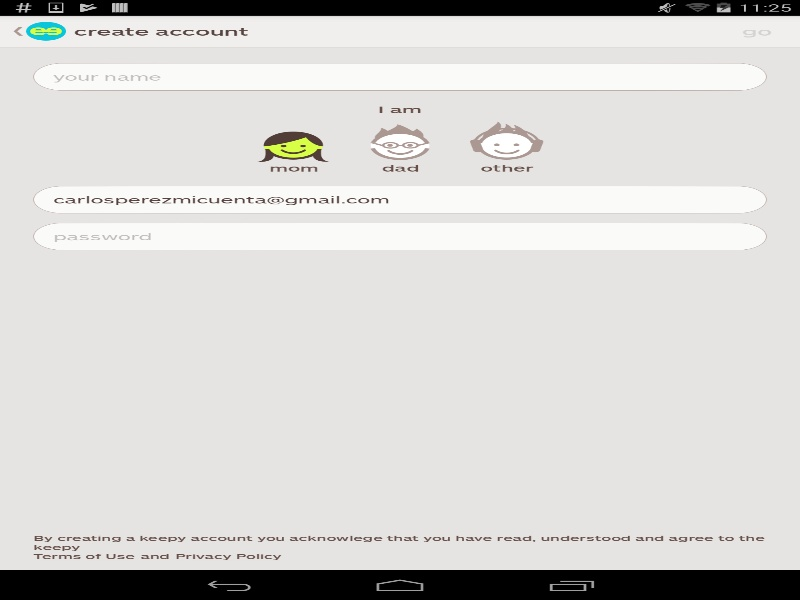Input: (33, 185, 766, 213), (33, 222, 766, 250), (33, 63, 766, 90)
